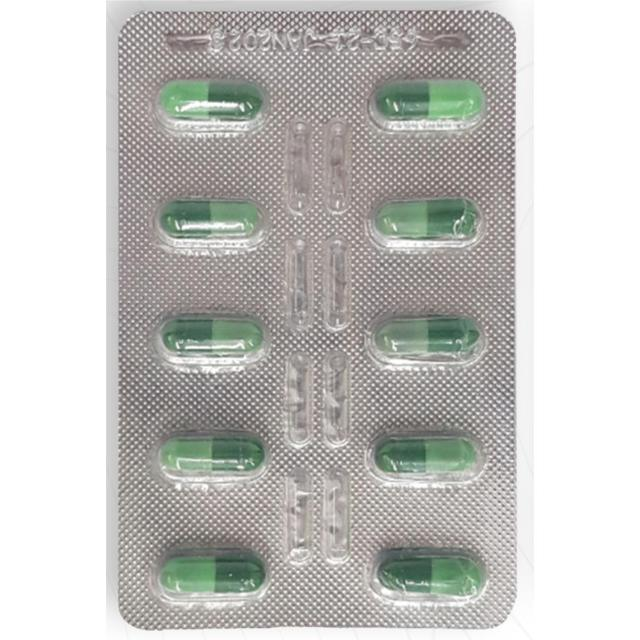blister: (117, 6, 520, 632)
